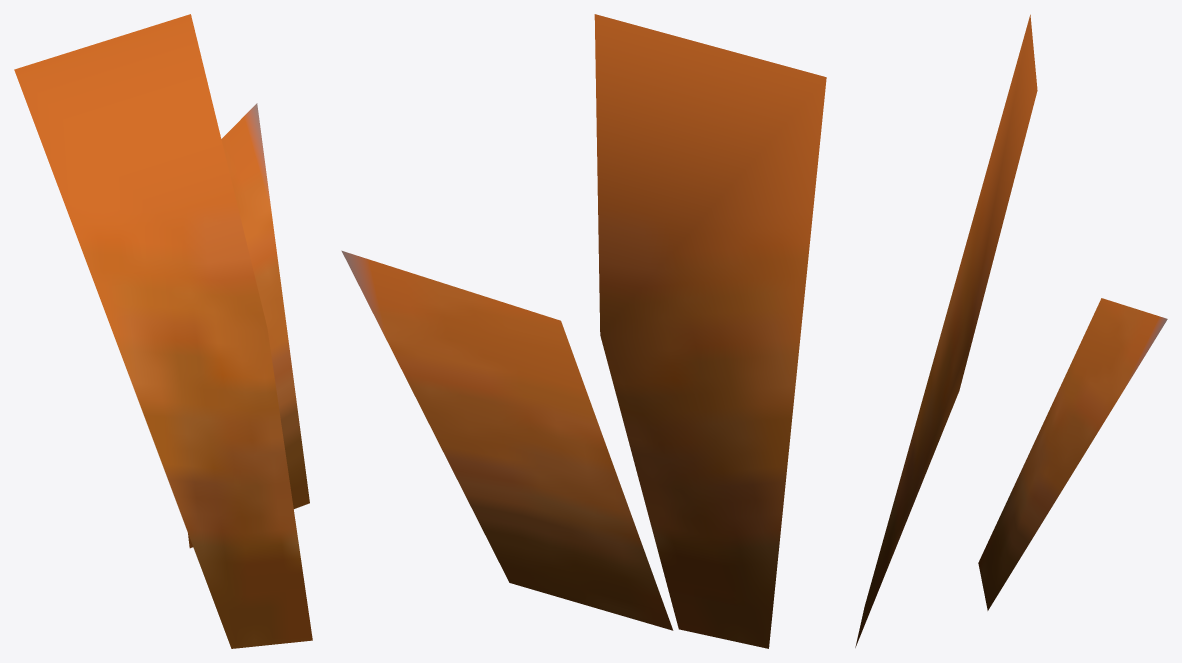
Rendered from fg_grassA.dae.
The picture shows the model from 3 angles, left to right: view 1: azimuth 30°, elevation 25°; view 2: azimuth 150°, elevation 25°; view 3: azimuth 270°, elevation 25°; orthographic projection. The views are drawn at different scales.
Parts seen in each view (by area): view 1: fg_grassA; view 2: fg_grassA; view 3: fg_grassA.
Part boxes in pixels (x1=…): fg_grassA: x1=14, y1=14, x2=312, y2=648; fg_grassA: x1=341, y1=14, x2=826, y2=648; fg_grassA: x1=855, y1=14, x2=1167, y2=647.
Bounding box in the file's own units: 11.97 × 20.54 × 10.68.
Materials: 1 (1 with a texture image).
